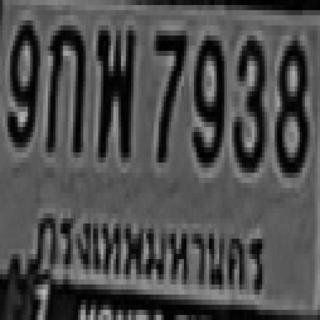A01: (43, 20, 83, 152)
A30: (96, 23, 134, 155)
N03: (232, 30, 265, 168)
N07: (152, 26, 185, 158)
N08: (275, 36, 305, 173)
N09: (5, 15, 38, 142), (191, 31, 222, 162)
P04: (32, 199, 274, 302)
